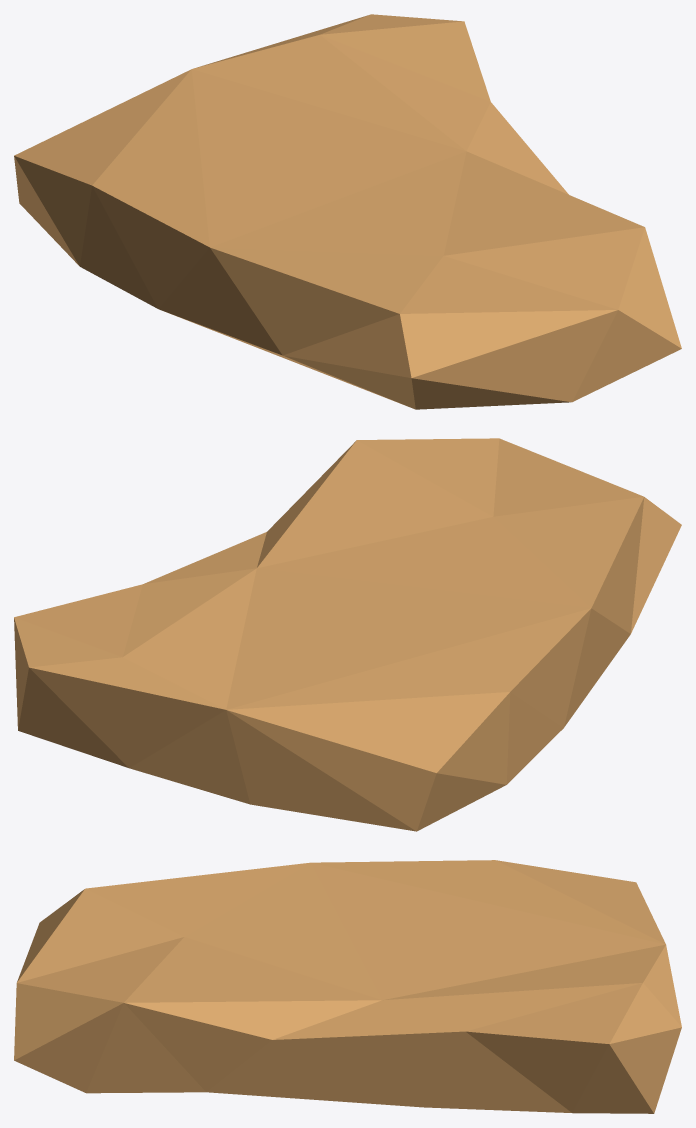
The model's file is Path_tile_7.glb.
3 views of the same model, one above another, from view 1: azimuth 30°, elevation 25°; view 2: azimuth 150°, elevation 25°; view 3: azimuth 270°, elevation 25° (orthographic). The views are drawn at different scales.
Visible parts, largest first — view 1: Path_tile_07; view 2: Path_tile_07; view 3: Path_tile_07.
Boxes of the visible parts, box(x1,y1,x2,y2) form: Path_tile_07: box(14, 14, 681, 409); Path_tile_07: box(14, 438, 681, 831); Path_tile_07: box(14, 860, 681, 1113).
Size of the model in its own units: 0.1804 by 0.0411 by 0.2564.
